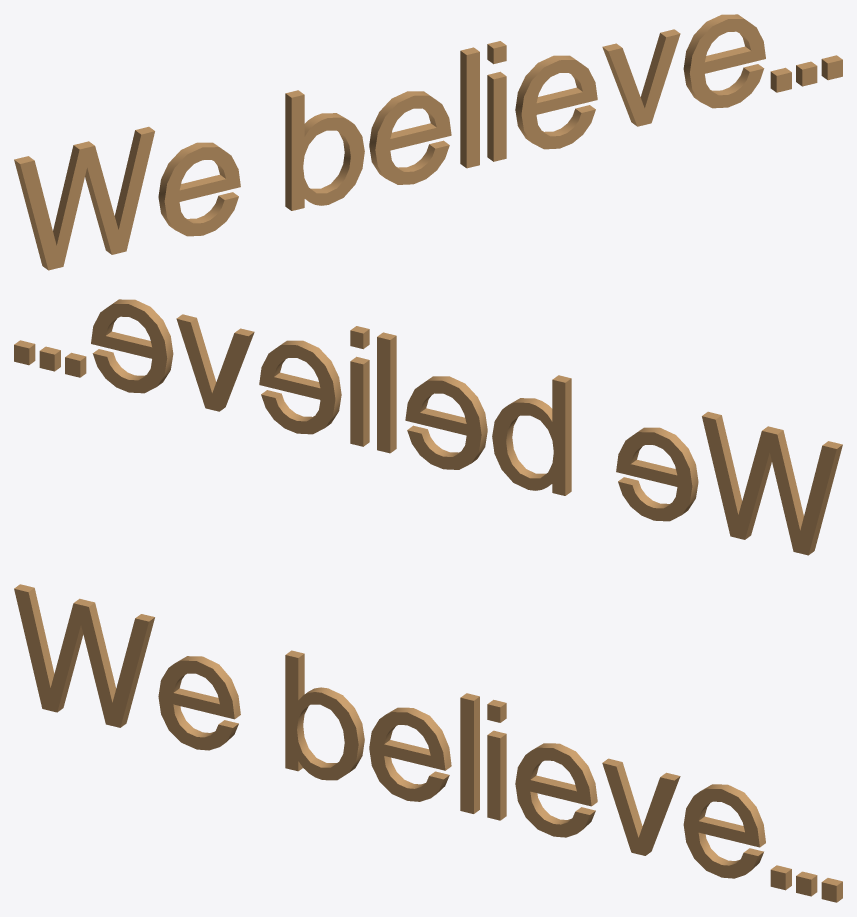
File: we-believe.fbx
3 views of the same model, one above another, from view 1: azimuth 30°, elevation 25°; view 2: azimuth 150°, elevation 25°; view 3: azimuth 330°, elevation 25° (orthographic).
Visible parts, largest first — view 1: Text; view 2: Text; view 3: Text.
Part boxes in pixels (x1=…): Text: x1=14, y1=14, x2=842, y2=270; Text: x1=14, y1=299, x2=842, y2=555; Text: x1=14, y1=584, x2=842, y2=902.
Bounding box in the file's own units: 7.7 × 1.04 × 0.1.
